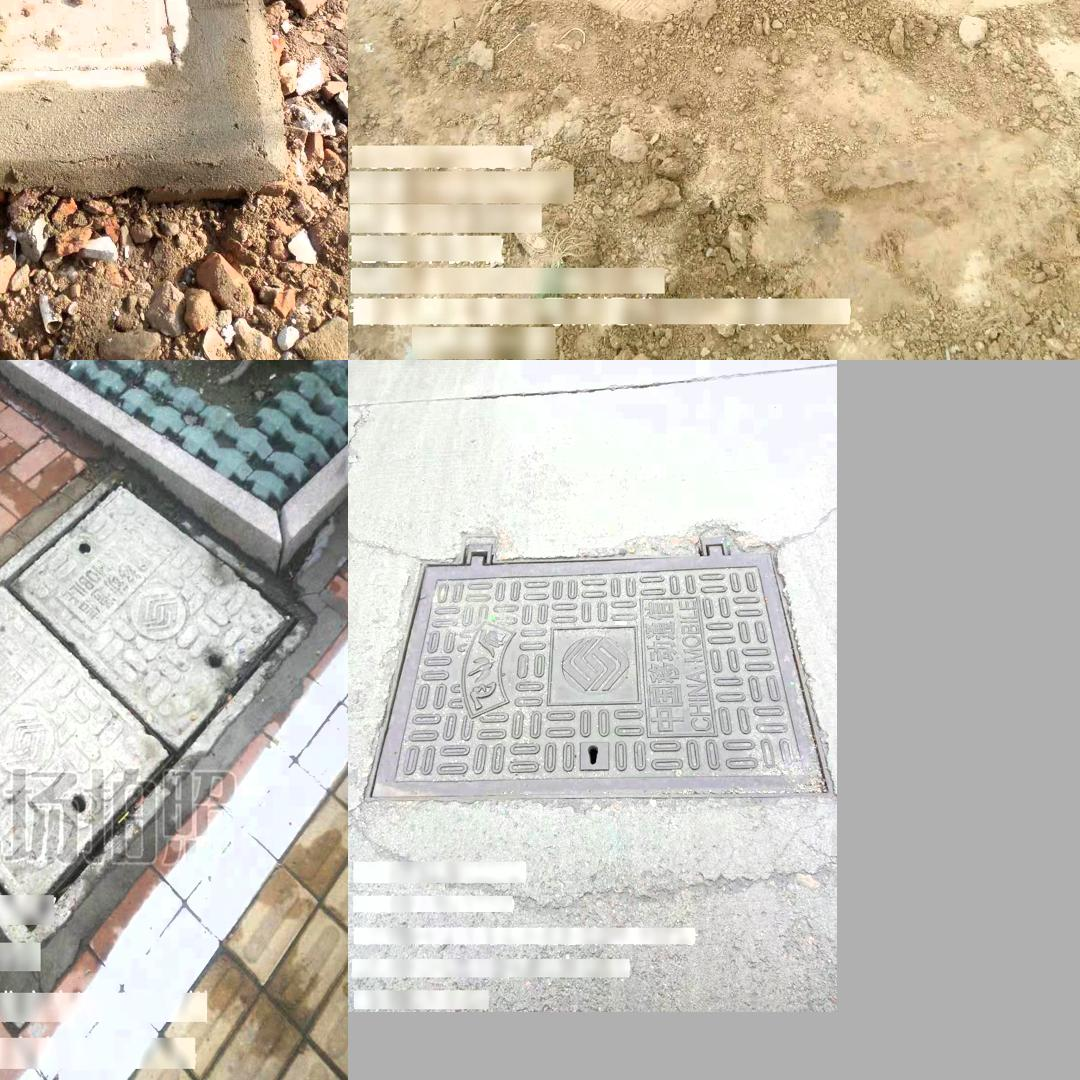good: (364, 535, 837, 801), (0, 509, 258, 893), (0, 0, 194, 90)
